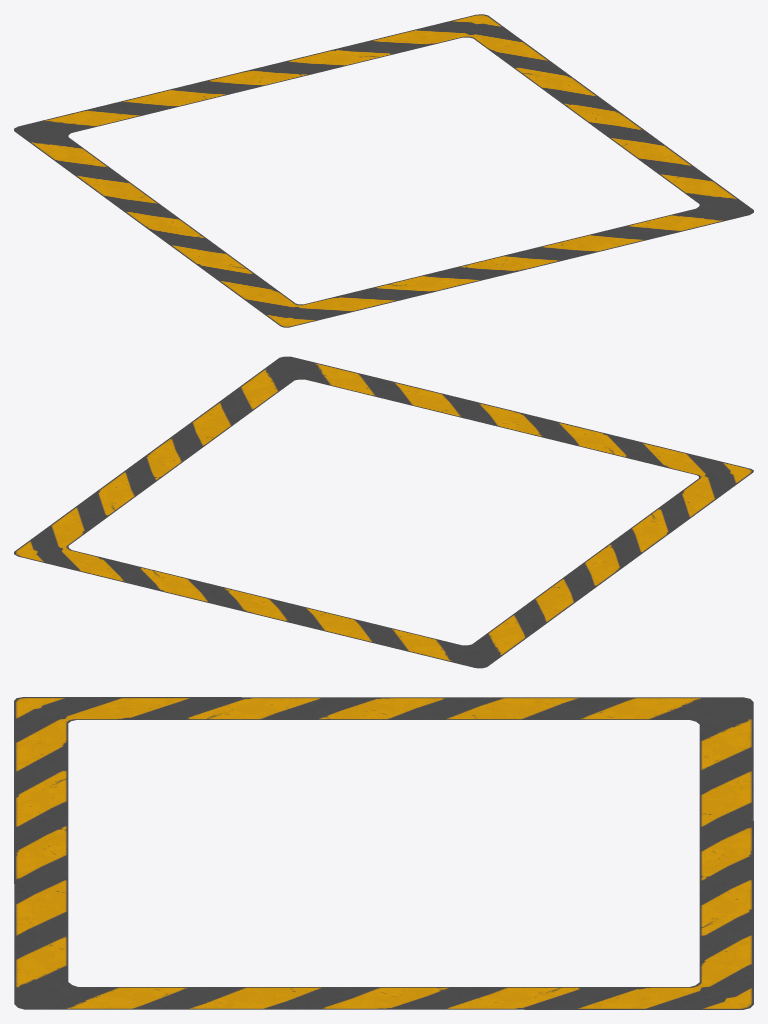
Rendered from SM_FloorDecal_QuadWarn2x2.FBX.
The picture shows the model from 3 angles, top to bottom: view 1: azimuth 30°, elevation 25°; view 2: azimuth 150°, elevation 25°; view 3: azimuth 270°, elevation 25°; orthographic projection. The views are drawn at different scales.
Visible parts, largest first — view 1: SM_FloorDecal_QuadWarn2x2; view 2: SM_FloorDecal_QuadWarn2x2; view 3: SM_FloorDecal_QuadWarn2x2.
Boxes of the visible parts, bbox=[...] form: SM_FloorDecal_QuadWarn2x2: bbox=[14, 14, 753, 327]; SM_FloorDecal_QuadWarn2x2: bbox=[14, 356, 753, 668]; SM_FloorDecal_QuadWarn2x2: bbox=[14, 697, 753, 1009].
Bounding box in the file's own units: 215 × 215 × 3.64e-12.
